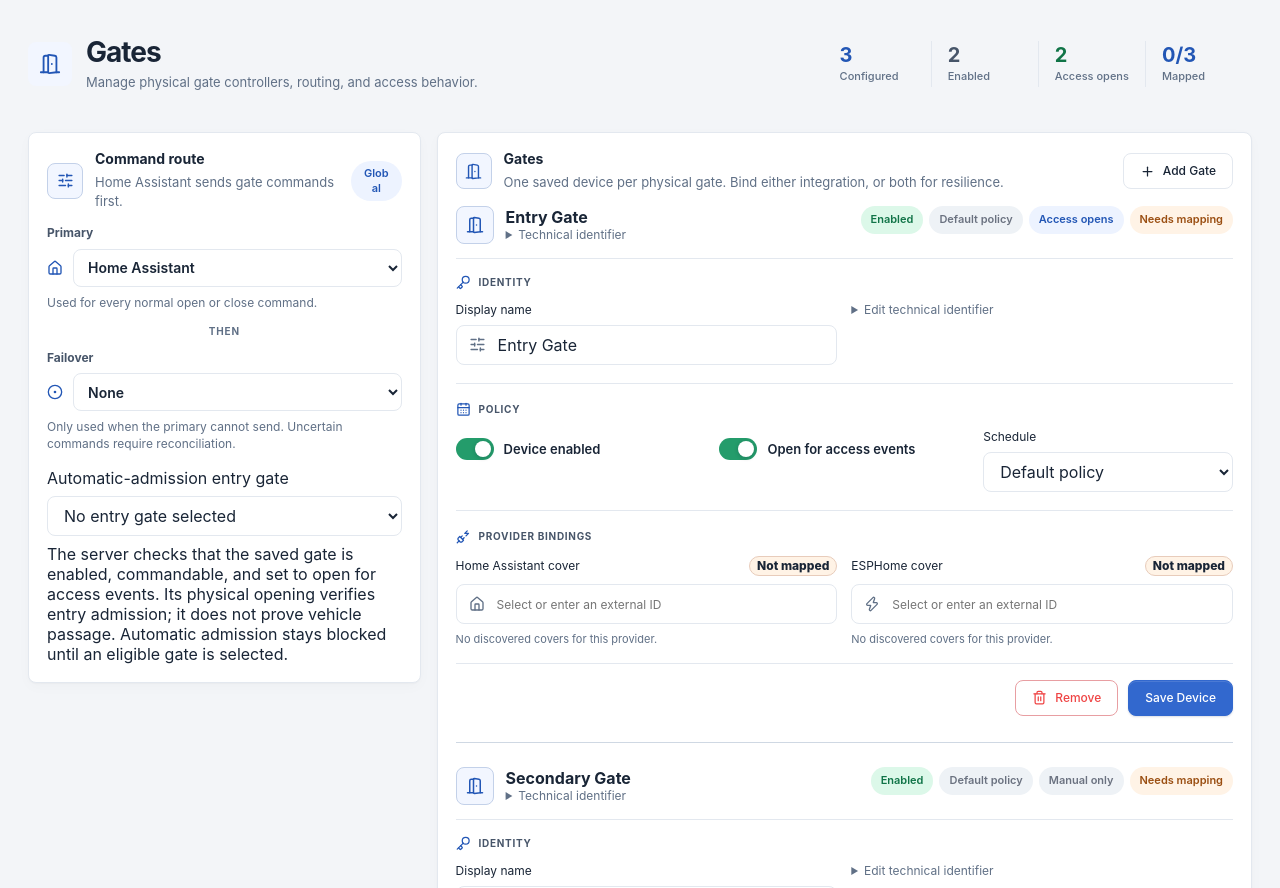
retains and displays a rejected server selection without pretending it was saved
The width and height of the screenshot is (1280, 888).
Select "Entry Gate" in the dropdown labelled "Automatic-admission entry gate" at (224, 516), box [47,496,402,536]
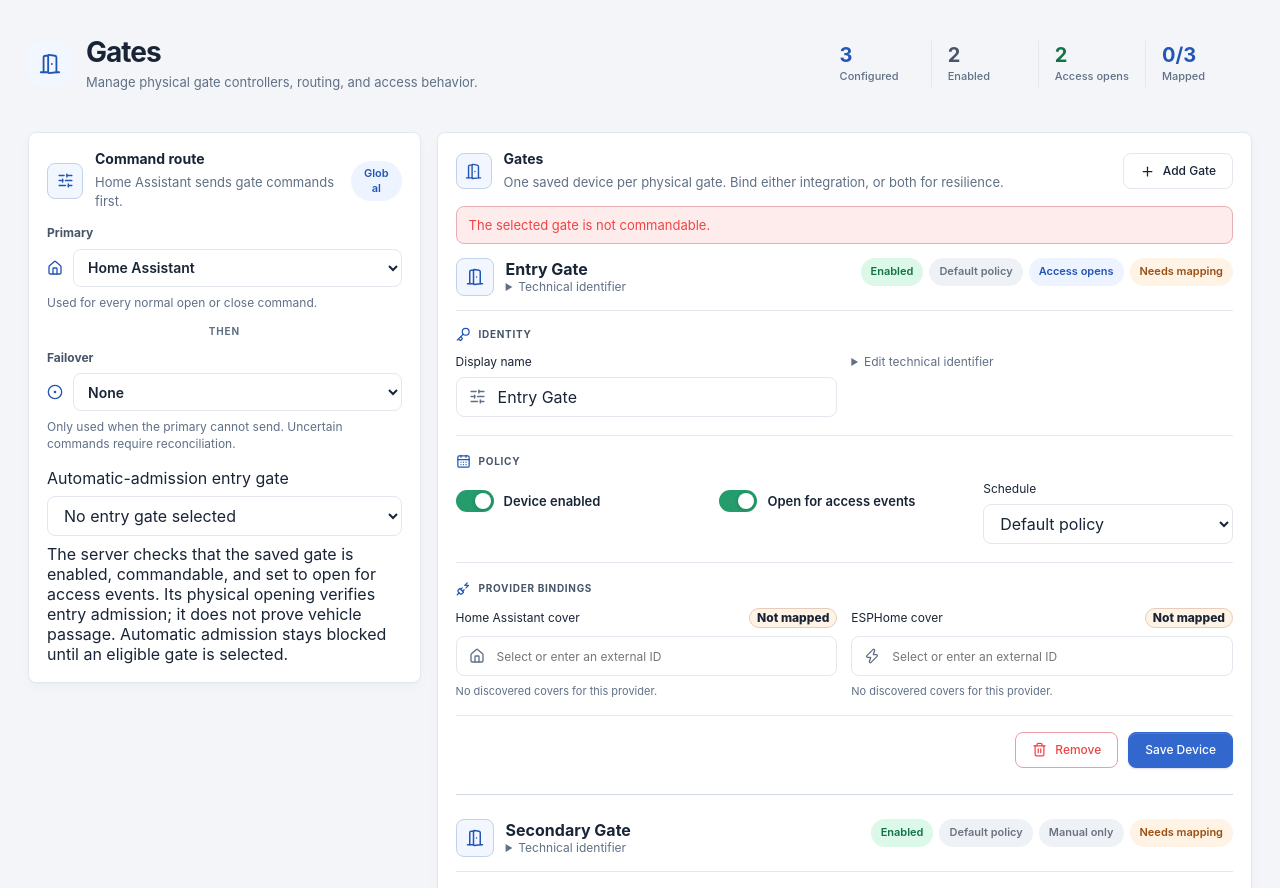
Expected: the text "The selected gate is not commandable." is shown, [456,206,1233,244]
